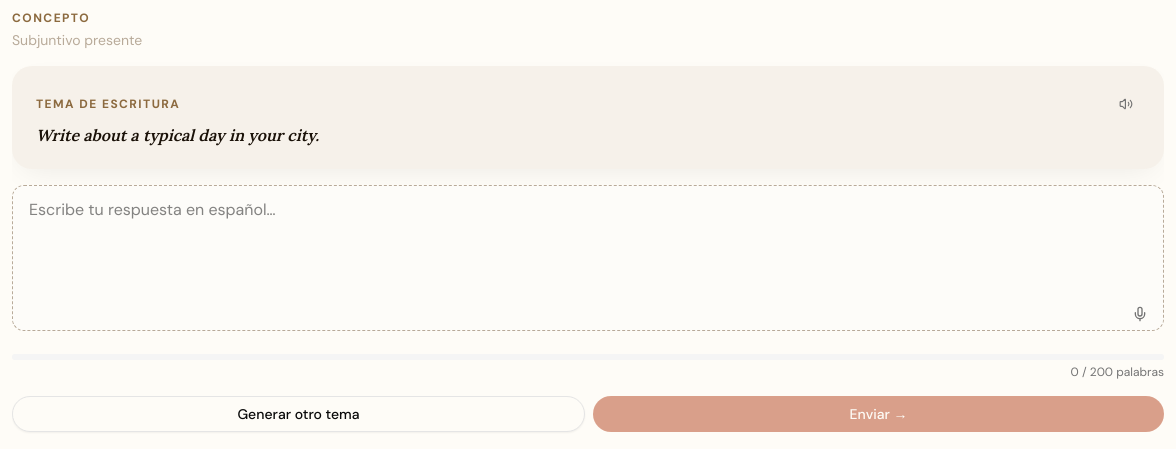
Scenario: FreeWritePrompt › updates word counter as user types
Type "hola mundo" into the text box with placeholder "Escribe tu respuesta en español…" at (588,258), box [12,185,1164,331]
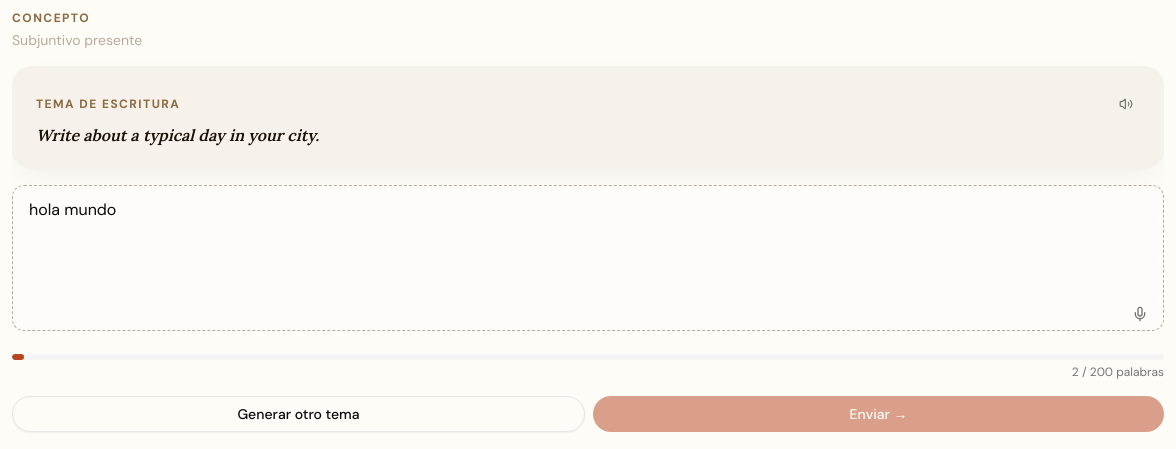
Now the text "2 / 200 palabras" is shown, box [1072,364,1164,380]
